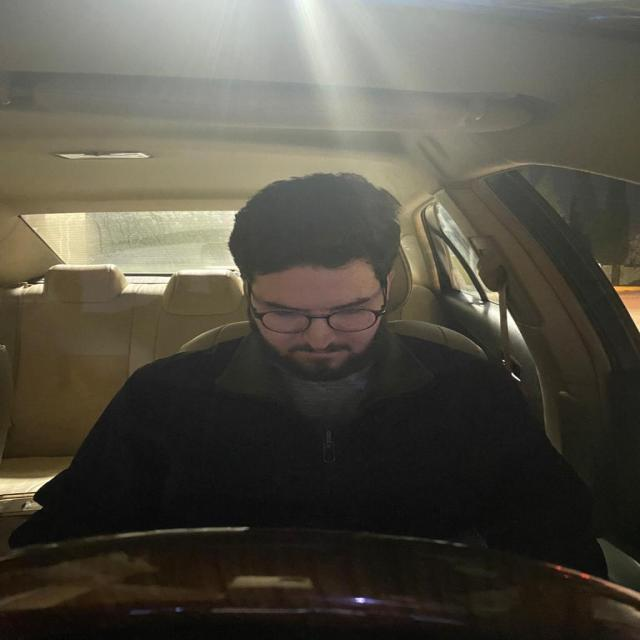drowsy: (219, 170, 414, 388)
